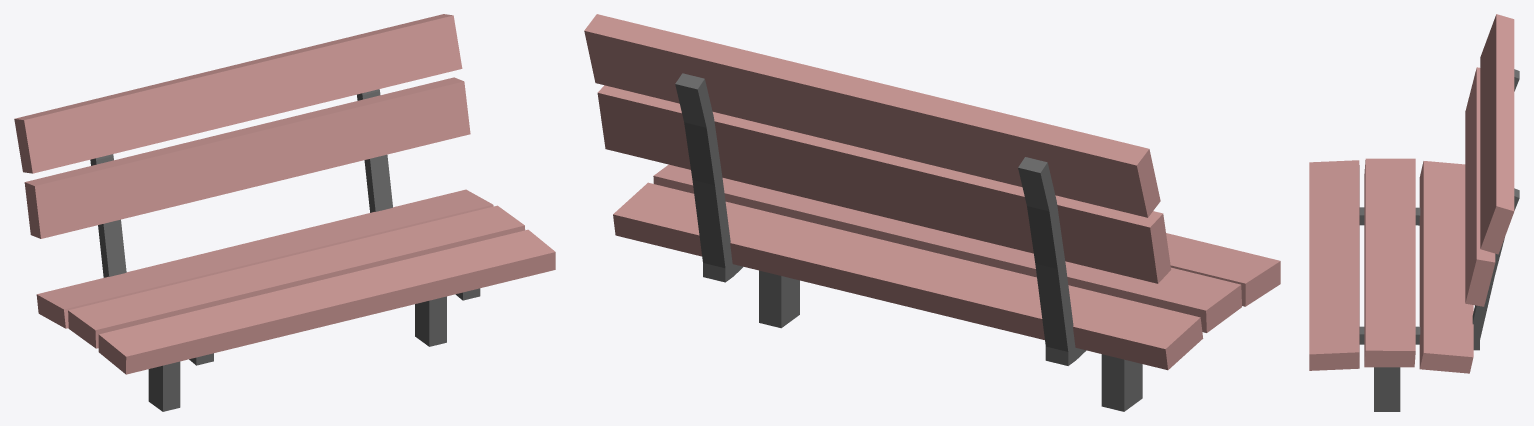
Rendered from Bench.fbx.
The picture shows the model from 3 angles, left to right: view 1: azimuth 30°, elevation 25°; view 2: azimuth 150°, elevation 25°; view 3: azimuth 270°, elevation 25°; orthographic projection. The views are drawn at different scales.
Visible parts, largest first — view 1: Cube; view 2: Cube; view 3: Cube.
Boxes of the visible parts, bbox=[...] form: Cube: bbox=[14, 14, 555, 411]; Cube: bbox=[584, 14, 1280, 411]; Cube: bbox=[1309, 14, 1519, 411].
Bounding box in the file's own units: 130 × 75.17 × 60.03.
